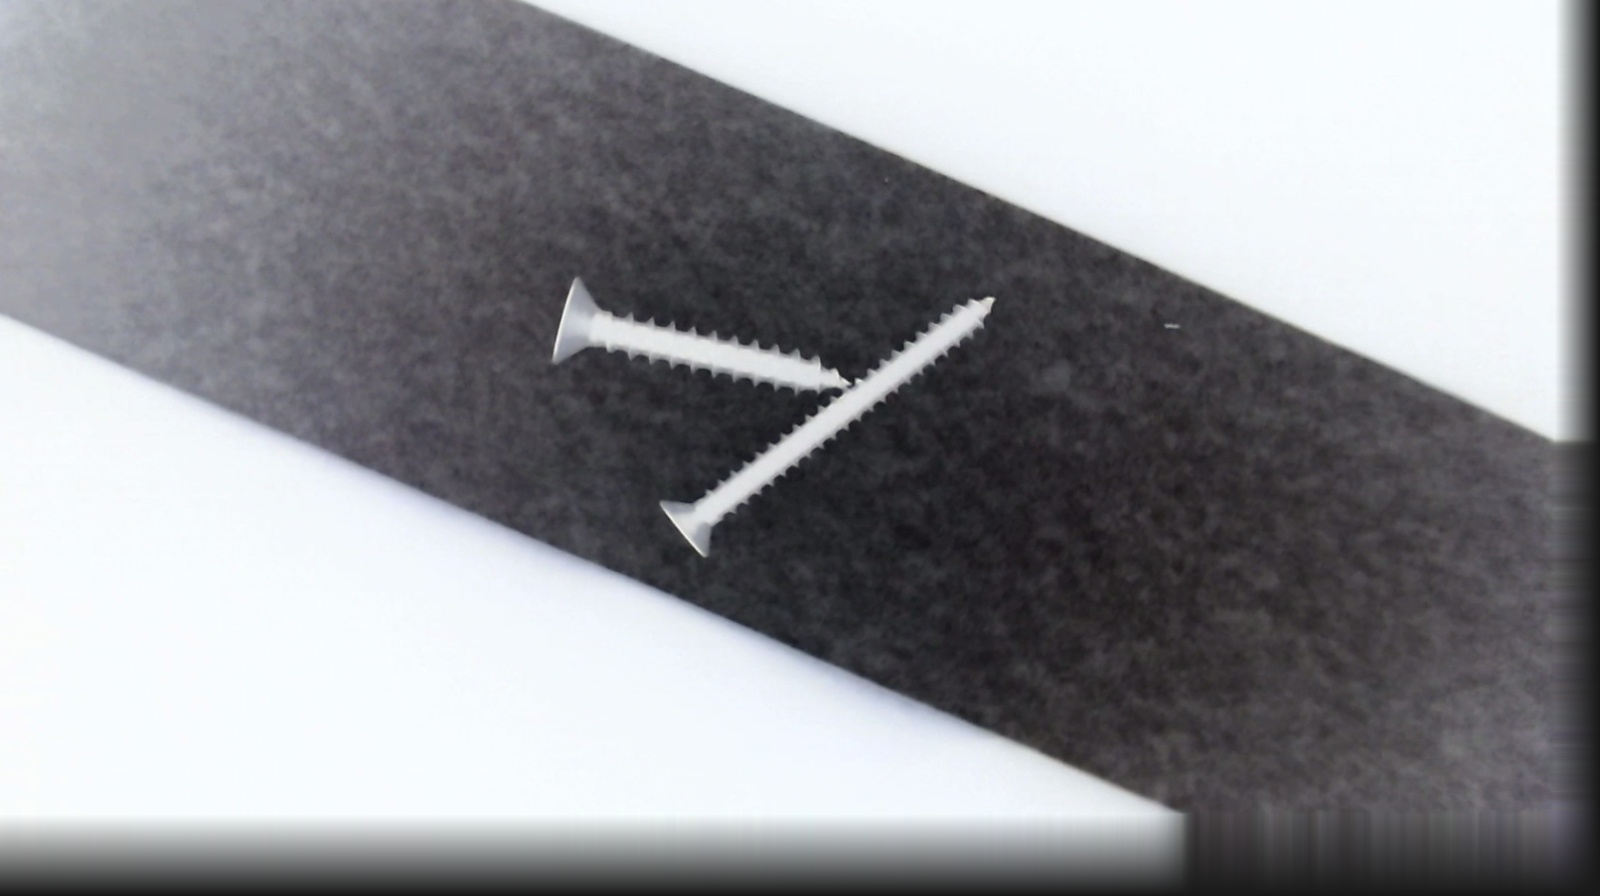S001: (546, 273, 845, 390)
S002: (660, 292, 1001, 564)
